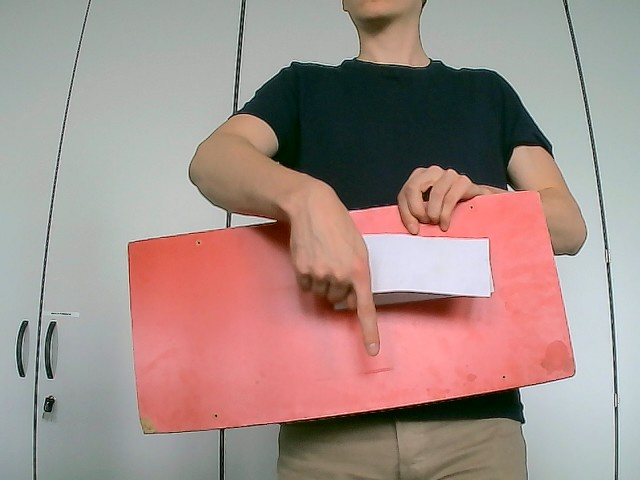down: (286, 181, 382, 357)
no_gesture: (394, 162, 489, 235)
